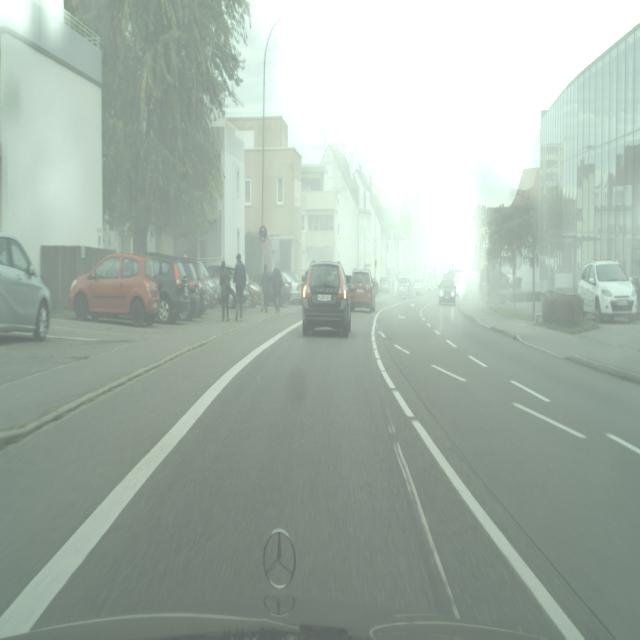bus: (232, 252, 246, 322), (219, 259, 232, 322), (272, 264, 282, 314)
person: (68, 252, 161, 328), (0, 234, 52, 342), (577, 258, 637, 322), (301, 261, 351, 336), (146, 253, 191, 322), (258, 270, 298, 309), (182, 261, 204, 318), (196, 261, 219, 310), (350, 269, 375, 312), (194, 261, 211, 311), (281, 269, 302, 304), (438, 277, 457, 304), (397, 274, 413, 300), (413, 277, 426, 294)
